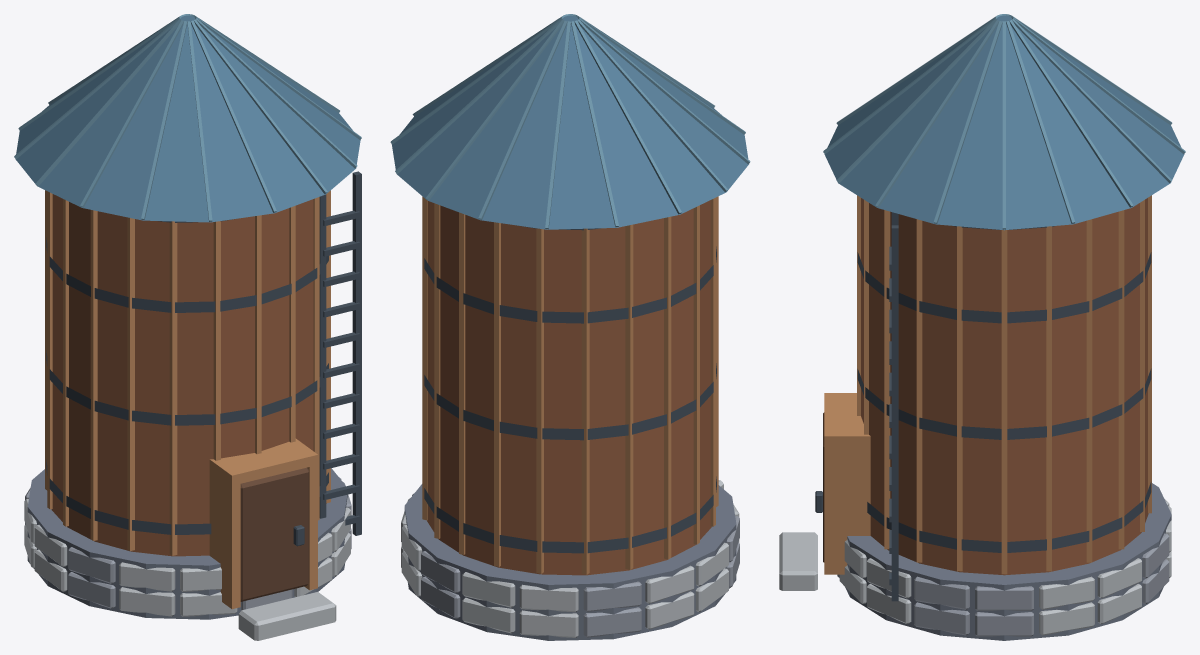
File: silo.glb
3 views of the same model, side by side, from view 1: azimuth 30°, elevation 25°; view 2: azimuth 150°, elevation 25°; view 3: azimuth 270°, elevation 25° (orthographic). The views are drawn at different scales.
Parts seen in each view (by area): view 1: silo_建筑共用调色板.008; view 2: silo_建筑共用调色板.008; view 3: silo_建筑共用调色板.008.
Part boxes in pixels (x1=…): silo_建筑共用调色板.008: x1=14, y1=14, x2=361, y2=640; silo_建筑共用调色板.008: x1=390, y1=14, x2=750, y2=640; silo_建筑共用调色板.008: x1=779, y1=14, x2=1185, y2=640.
Bounding box in the file's own units: 2.82 × 4.74 × 3.16.
Materials: 1 (1 with a texture image).
